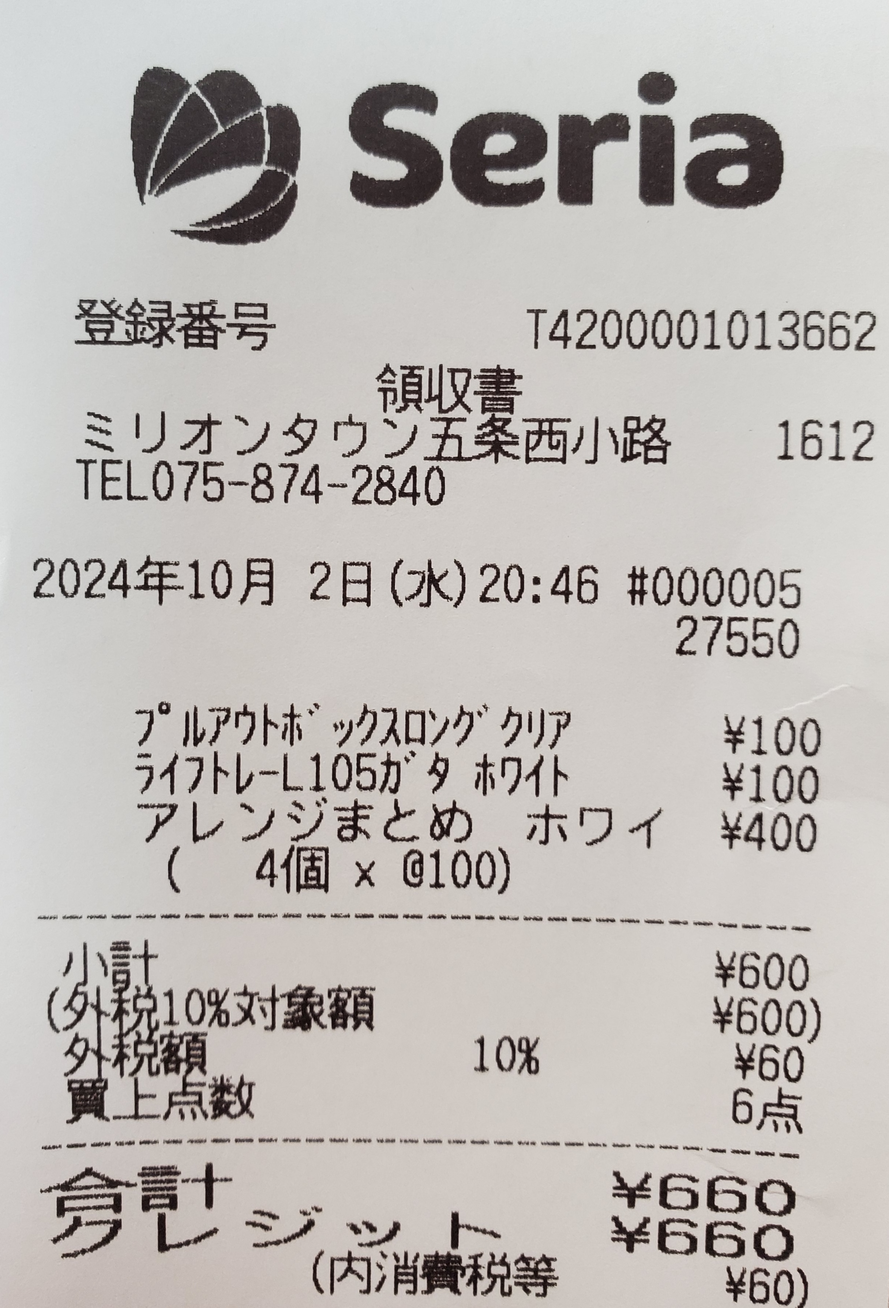Date: (18, 543, 384, 624)
Shopname: (328, 52, 807, 239)
Telnum: (139, 452, 463, 518)
Totalpay: (24, 1155, 819, 1225)
